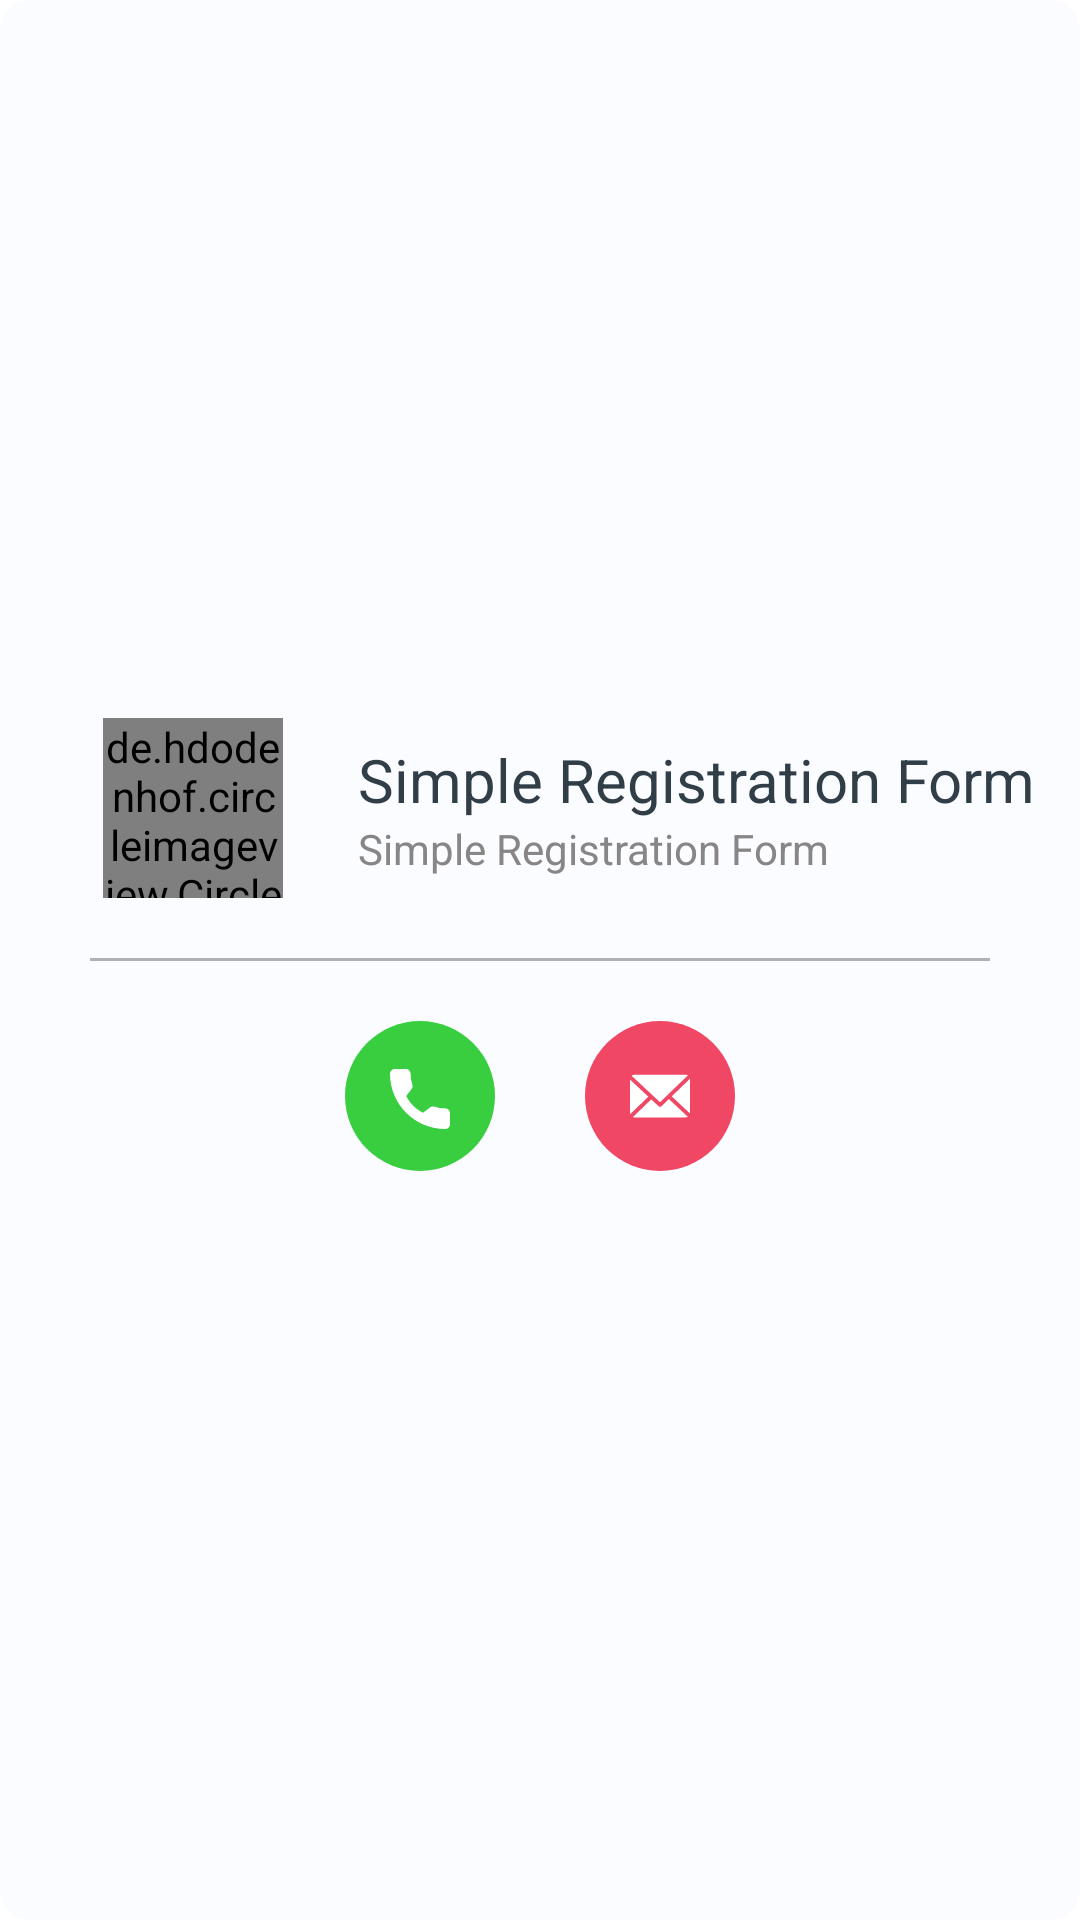

Point at icon controls on the screen. Image size 1080px x 1920px, points as (x,y).
message: (660,1096)
phone: (420,1096)
